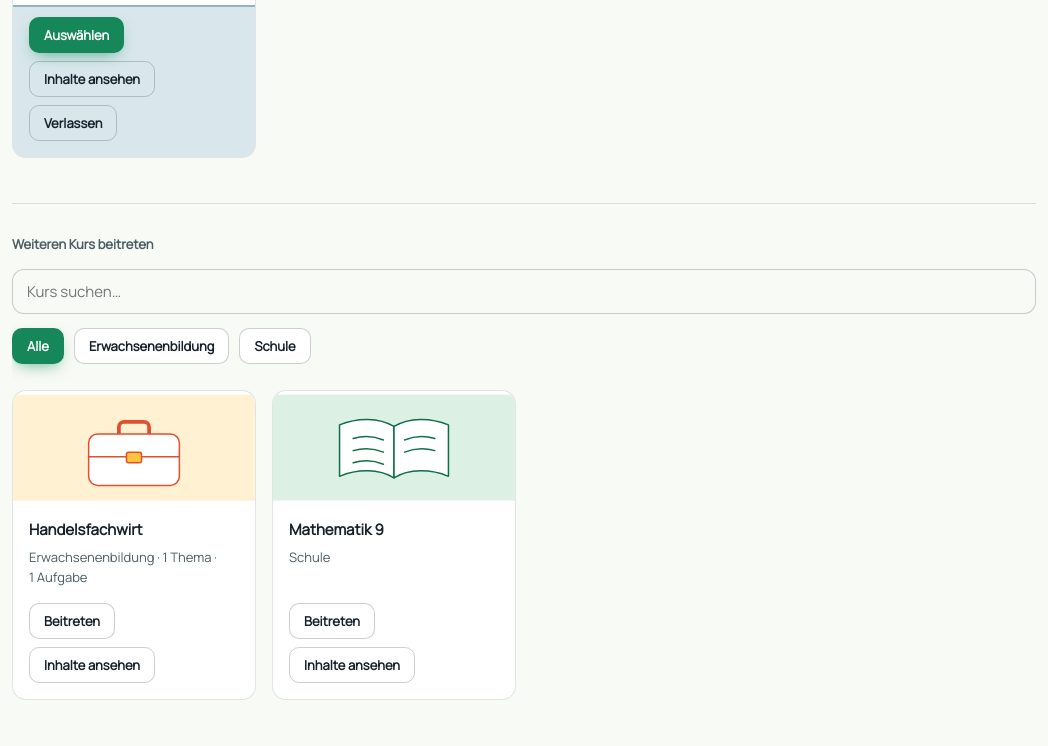
Scenario: CourseSelection (F-100/F-101/F-102) › zeigt den Fehler eines fehlgeschlagenen Beitritts an der Kachel
(page scrolled)
Click the button "Beitreten" below "Mathematik 9": (332,621) [289, 603, 375, 639]
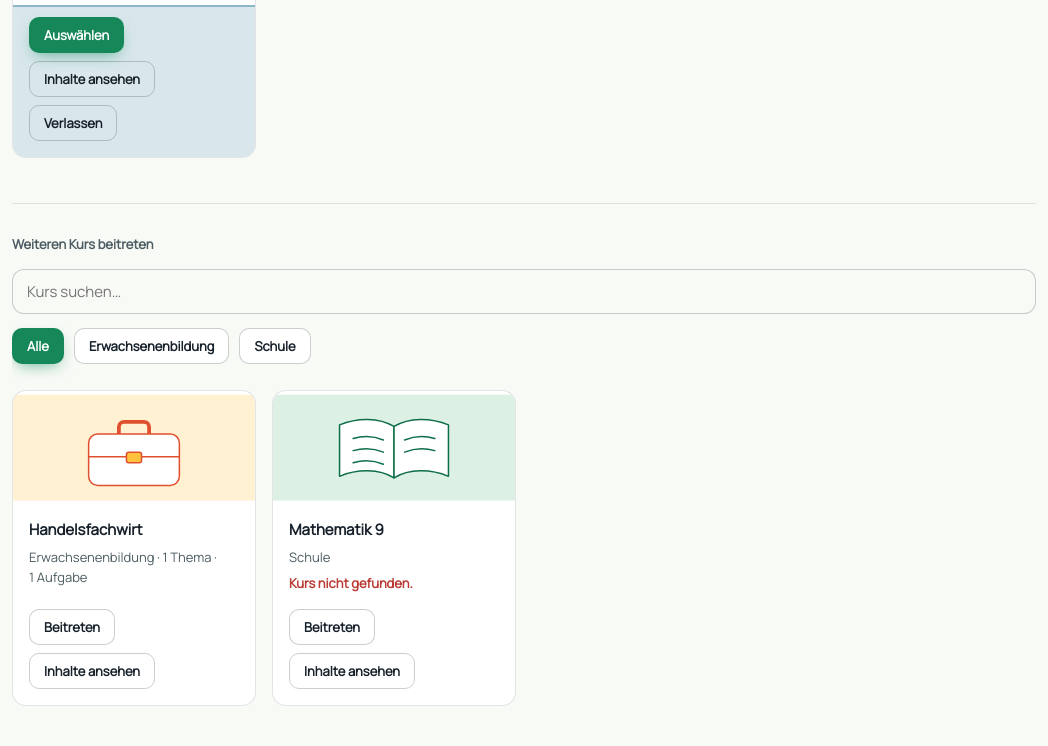
Check: the text "Kurs nicht gefunden." is shown, box [289, 574, 413, 592]
